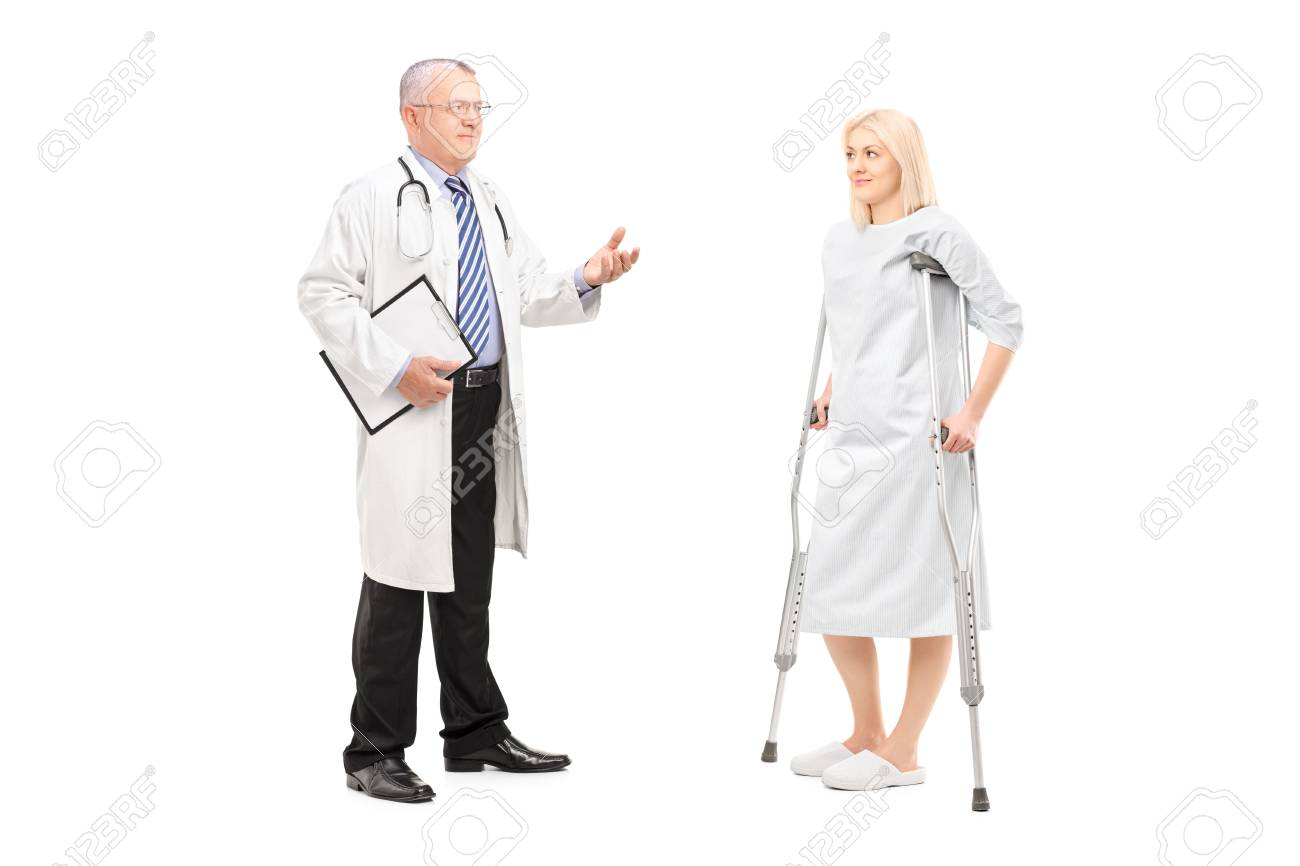crutches: (760, 110, 1025, 810)
